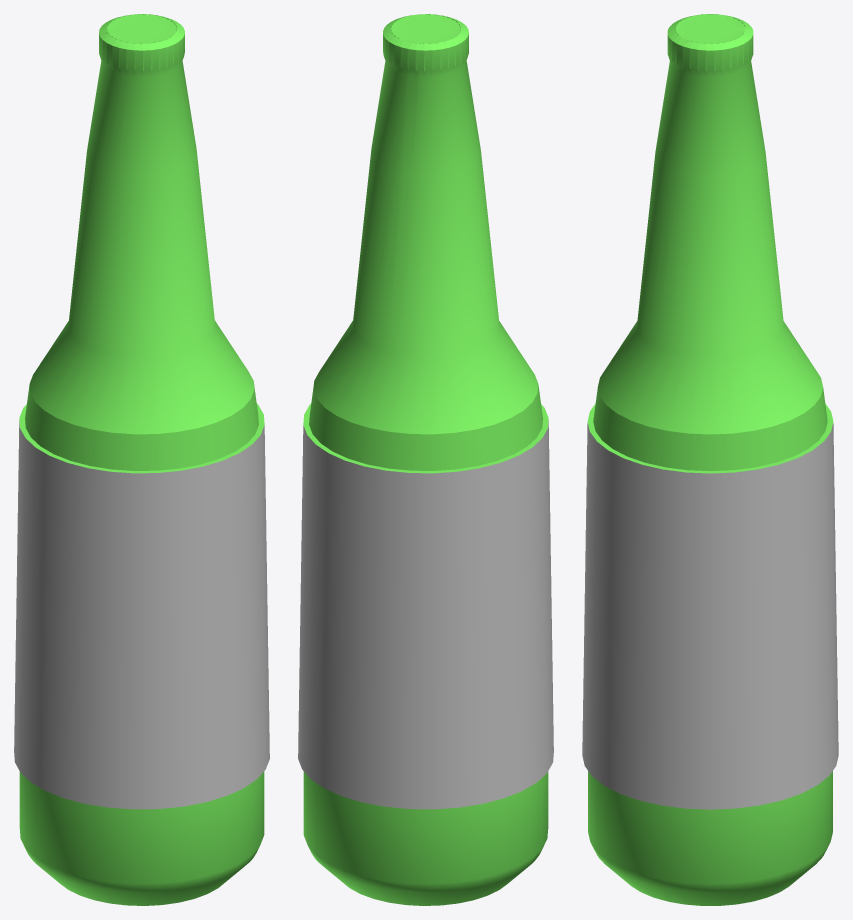
Rendered from bottle.fbx.
3 views of the same model, side by side, from view 1: azimuth 30°, elevation 25°; view 2: azimuth 150°, elevation 25°; view 3: azimuth 270°, elevation 25° (orthographic).
Visible parts, largest first — view 1: Circle; view 2: Circle; view 3: Circle.
Part boxes in pixels (left/top/right/bottom): Circle: left=14, top=14, right=269, bottom=905; Circle: left=298, top=14, right=553, bottom=905; Circle: left=582, top=14, right=838, bottom=905.
Bounding box in the file's own units: 5.52 × 20 × 5.52.
